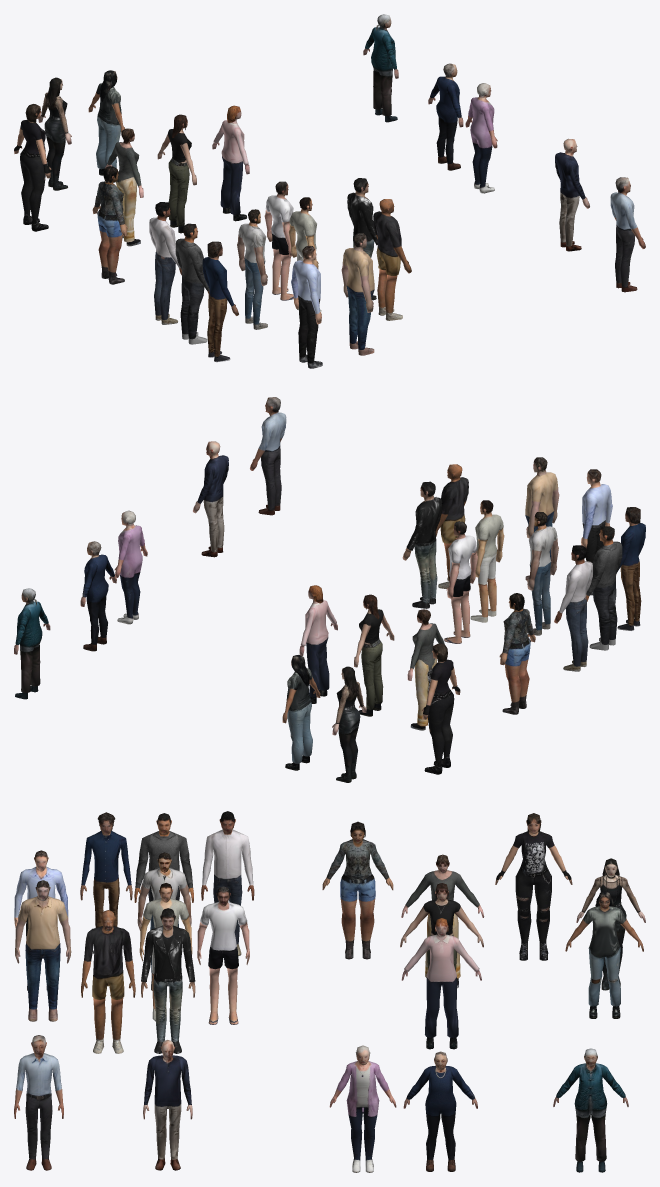
The model's file is civilians.glb.
3 renders of one model, top to bottom at view 1: azimuth 30°, elevation 25°; view 2: azimuth 150°, elevation 25°; view 3: azimuth 270°, elevation 25°, orthographic. The views are drawn at different scales.
Parts seen in each view (by area): view 1: Character_09, Character_Female_04, Character_05, Character_14, Character_Female_02, Character_02, Character_07, Character_Female_14, Character_01, Character_12, Character_Female_10, Character_03 (+10 smaller); view 2: Character_Female_04, Character_Female_02, Character_02, Character_15, Character_01, Character_12, Character_07, Character_Female_12, Character_11, Character_Female_10, Character_Female_14, Character_32_Female (+10 smaller); view 3: Character_09, Character_14, Character_15, Character_Female_04, Character_Female_02, Character_12, Character_Female_14, Character_29, Character_Female_12, Character_31, Character_32_Female, Character_29_Female (+10 smaller).
Part boxes in pixels (box(x1,y1,x2,y2)): Character_09: box(341, 233, 374, 355); Character_Female_04: box(14, 104, 51, 231); Character_05: box(291, 246, 322, 368); Character_14: box(373, 199, 411, 320); Character_Female_02: box(92, 166, 127, 284); Character_02: box(175, 223, 209, 344); Character_07: box(237, 209, 267, 329); Character_Female_14: box(212, 105, 249, 221); Character_01: box(149, 202, 181, 324); Character_12: box(264, 181, 293, 300); Character_Female_10: box(157, 114, 196, 233); Character_03: box(202, 241, 238, 362); Character_Female_04: box(422, 643, 460, 774); Character_Female_02: box(499, 593, 535, 714); Character_02: box(586, 526, 622, 650); Character_15: box(402, 481, 442, 608); Character_01: box(554, 545, 592, 671); Character_12: box(444, 521, 477, 643); Character_07: box(527, 512, 558, 635); Character_Female_12: box(282, 655, 320, 770); Character_11: box(470, 500, 504, 622); Character_Female_10: box(354, 594, 394, 716); Character_Female_14: box(299, 585, 337, 703); Character_32_Female: box(14, 588, 50, 699); Character_09: box(15, 880, 71, 1021); Character_14: box(81, 910, 135, 1053); Character_15: box(141, 908, 195, 1053); Character_Female_04: box(495, 813, 572, 960); Character_Female_02: box(322, 821, 393, 959); Character_12: box(197, 886, 249, 1024); Character_Female_14: box(401, 918, 481, 1049); Character_29: box(14, 1035, 63, 1170); Character_Female_12: box(565, 891, 643, 1018); Character_31: box(143, 1040, 192, 1170); Character_32_Female: box(553, 1048, 628, 1172); Character_29_Female: box(329, 1045, 396, 1172).
Bounding box in the file's own units: 16.51 × 4.87 × 19.49.
Materials: 22 (22 with a texture image).
